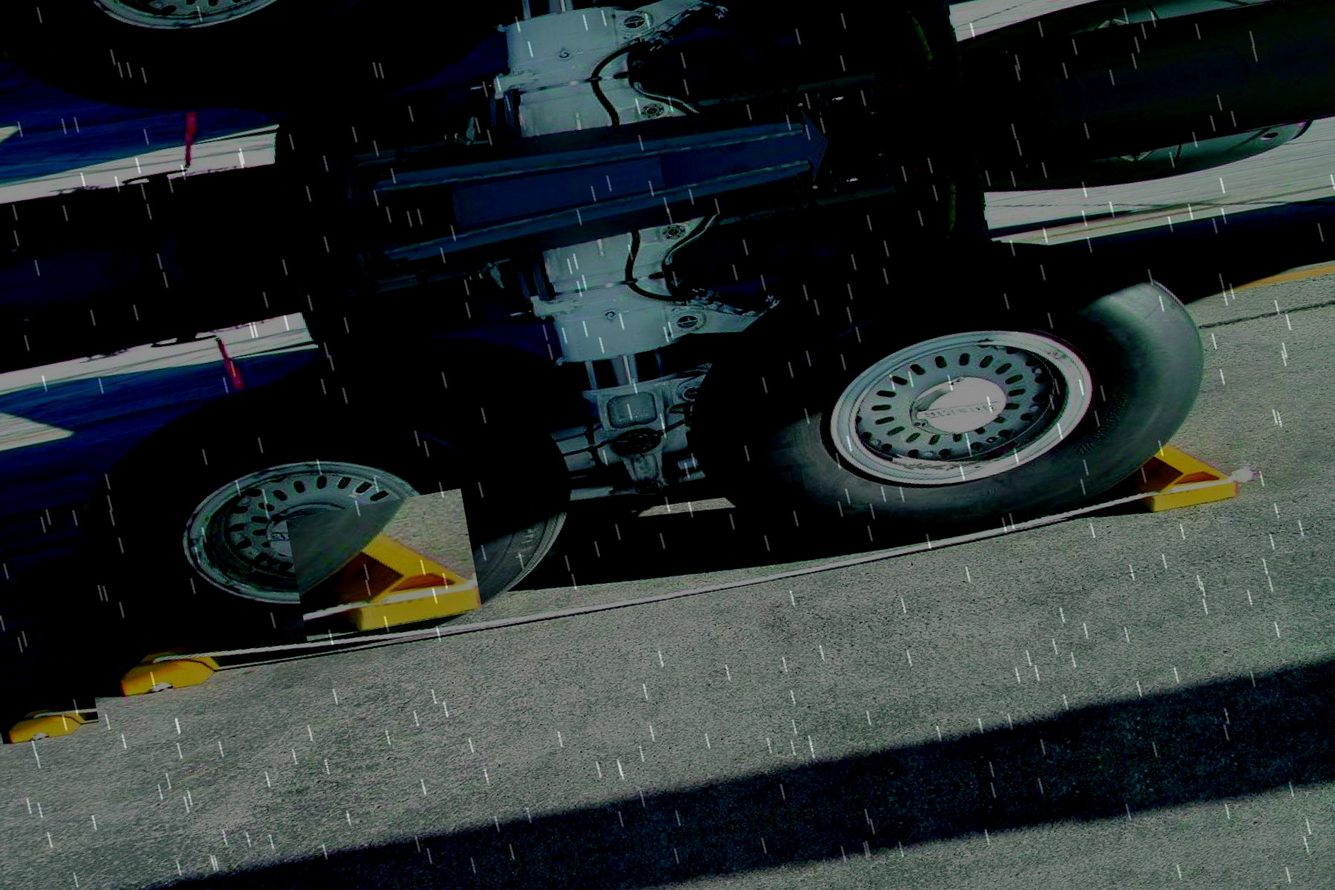chock: (286, 488, 482, 641), (1100, 412, 1238, 520), (101, 604, 240, 703), (0, 673, 100, 748)
wheel: (676, 198, 1228, 570), (66, 330, 594, 680), (0, 0, 500, 146), (274, 310, 591, 476), (212, 0, 529, 125), (736, 227, 974, 307), (692, 0, 930, 56)
